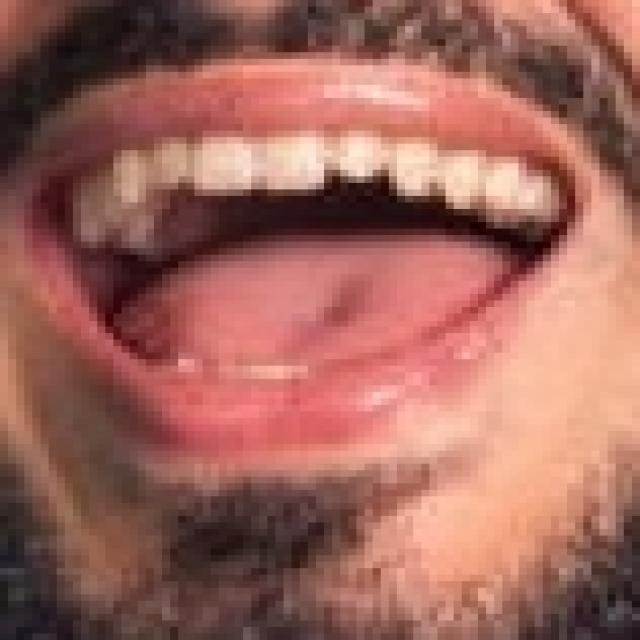open-mouth: (8, 46, 600, 470)
